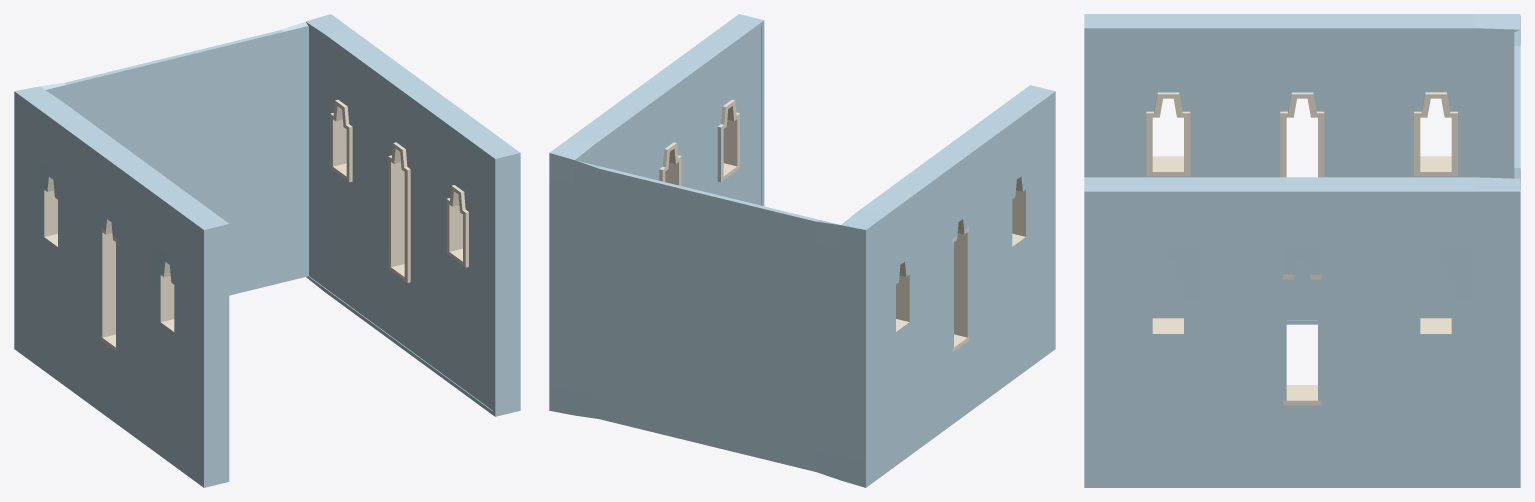
Rendered from room.glb.
3 renders of one model, left to right at view 1: azimuth 30°, elevation 25°; view 2: azimuth 150°, elevation 25°; view 3: azimuth 270°, elevation 25°, orthographic. The views are drawn at different scales.
Visible parts, largest first — view 1: Room; view 2: Room; view 3: Room.
Boxes of the visible parts, left/top/right/bottom form: Room: left=14, top=14, right=520, bottom=487; Room: left=549, top=14, right=1055, bottom=487; Room: left=1084, top=14, right=1520, bottom=487.
Size of the model in its own units: 11.91 by 9.27 by 12.36.
